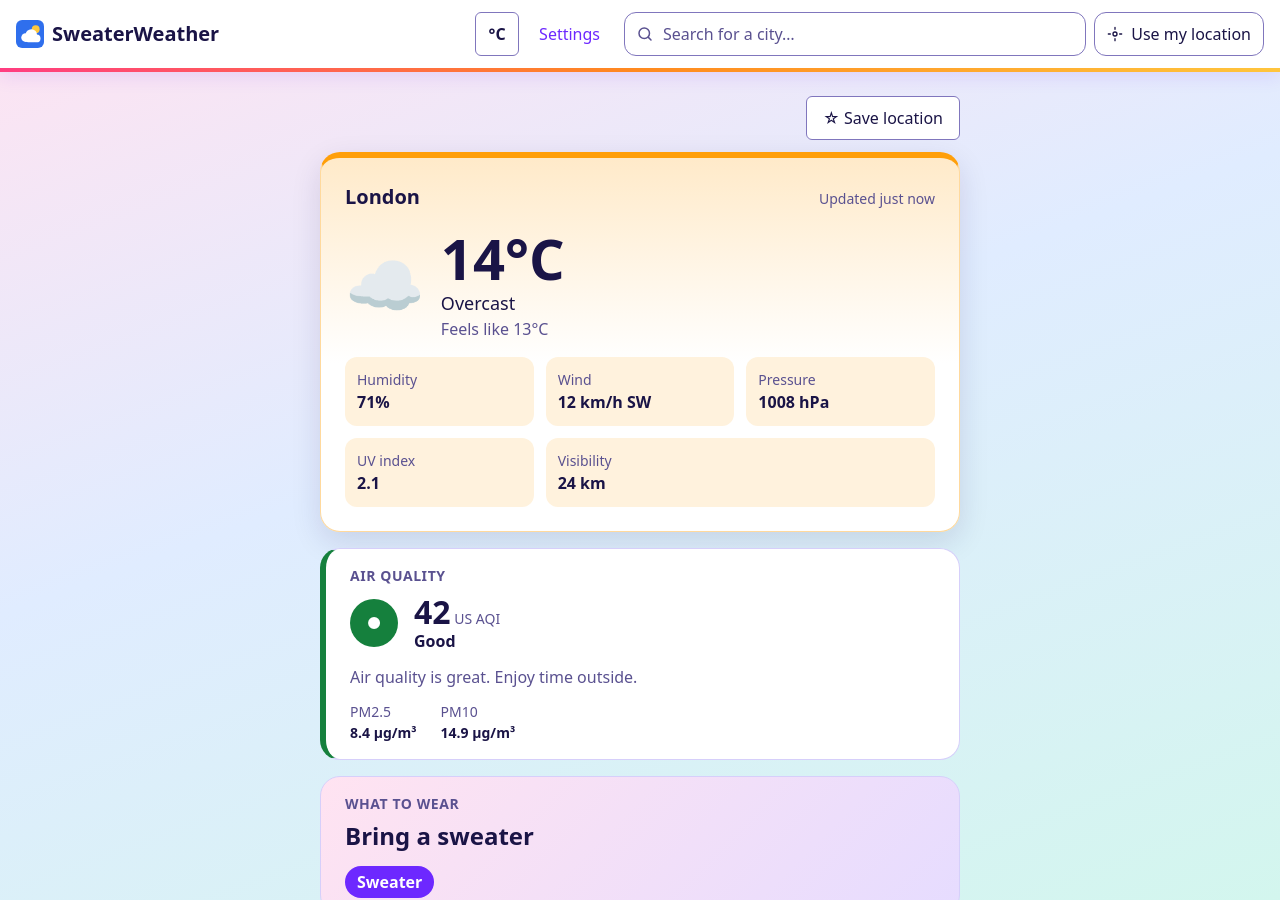
unit controls › header toggle refetches and shows values in the new units
Expected: the element "London" is shown, [320,152,960,532]
Expected: the text "14°C" is shown, [441,228,564,290]
Click the button named "Switch to Fahrenheit".
click(497, 34)  # box [475,12,519,56]
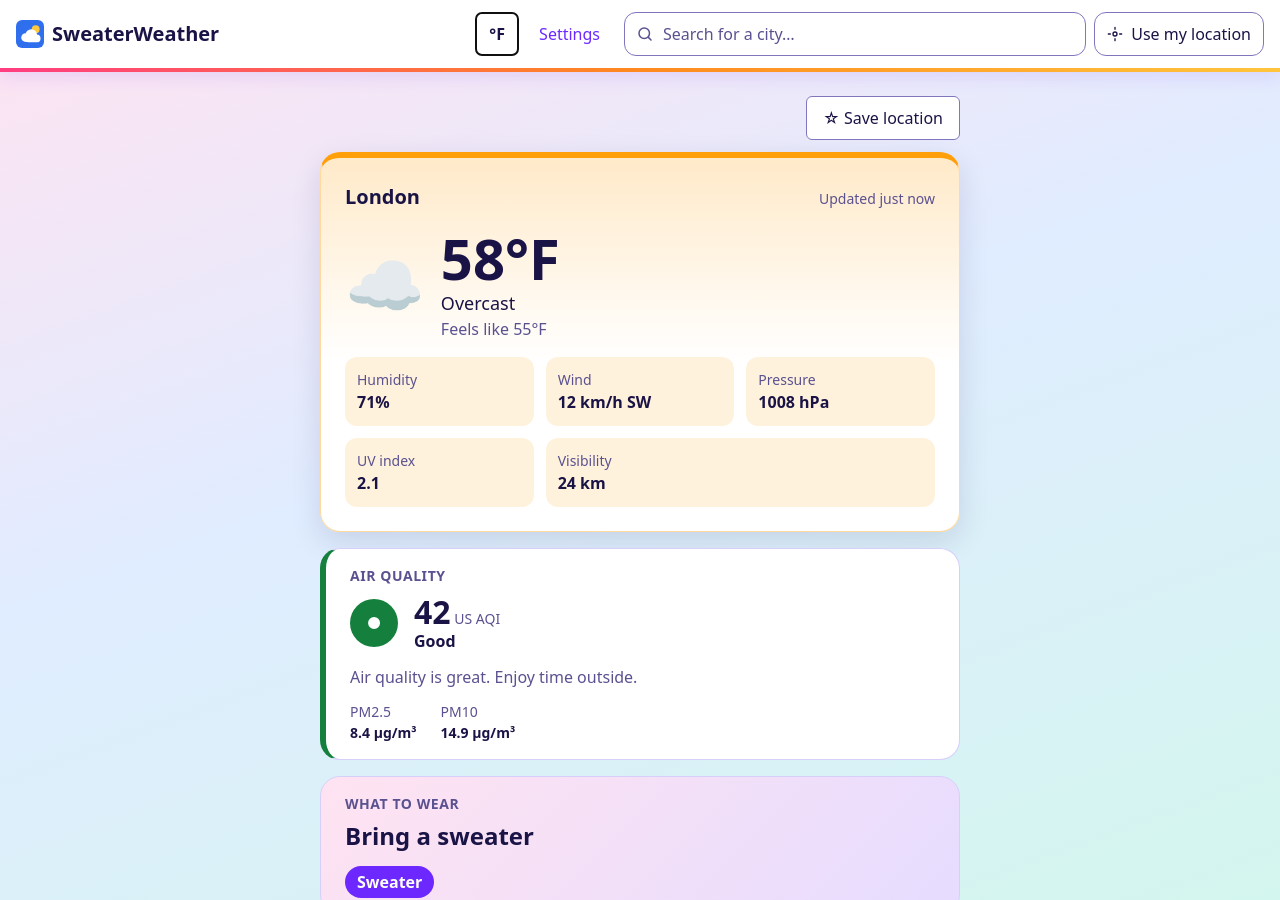
Result: the text "58°F" is shown at [441,228,560,290]
Result: the button named "Switch to Celsius" is shown at [475,12,519,56]
